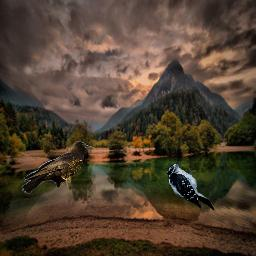Crow: (22, 140, 95, 195)
Woodpecker: (166, 160, 215, 211)
